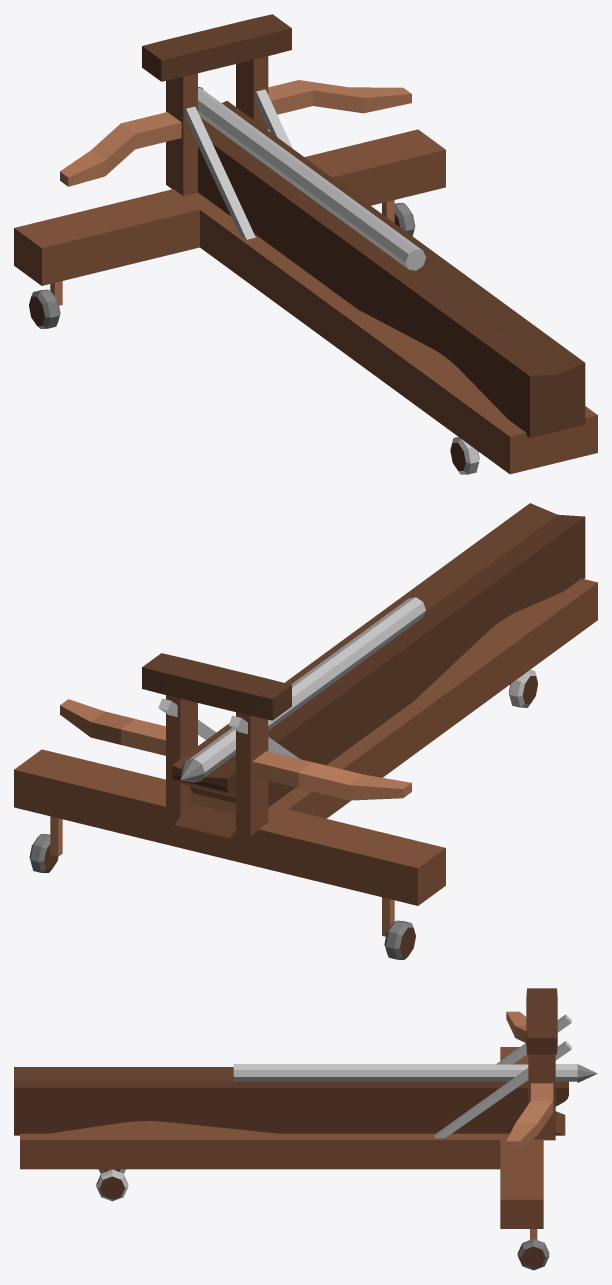
Rendered from crossbow.fbx.
3 views of the same model, one above another, from view 1: azimuth 30°, elevation 25°; view 2: azimuth 150°, elevation 25°; view 3: azimuth 270°, elevation 25° (orthographic). The views are drawn at different scales.
Visible parts, largest first — view 1: Base, Arrow, WheelsFront, WheelsBack; view 2: Base, Arrow, WheelsFront, WheelsBack; view 3: Base, Arrow, WheelsBack, WheelsFront.
Boxes of the visible parts, x1,y1,x2,y2 form: Base: [14, 14, 597, 474]; Arrow: [198, 87, 426, 270]; WheelsFront: [29, 203, 415, 328]; WheelsBack: [450, 436, 479, 474]; Base: [14, 503, 597, 936]; Arrow: [180, 597, 425, 782]; WheelsFront: [29, 834, 415, 959]; WheelsBack: [509, 669, 537, 707]; Base: [14, 988, 571, 1239]; Arrow: [233, 1064, 597, 1082]; WheelsBack: [96, 1169, 128, 1201]; WheelsFront: [517, 1238, 549, 1270].
Bounding box in the file's own units: 250 × 144 × 404.
